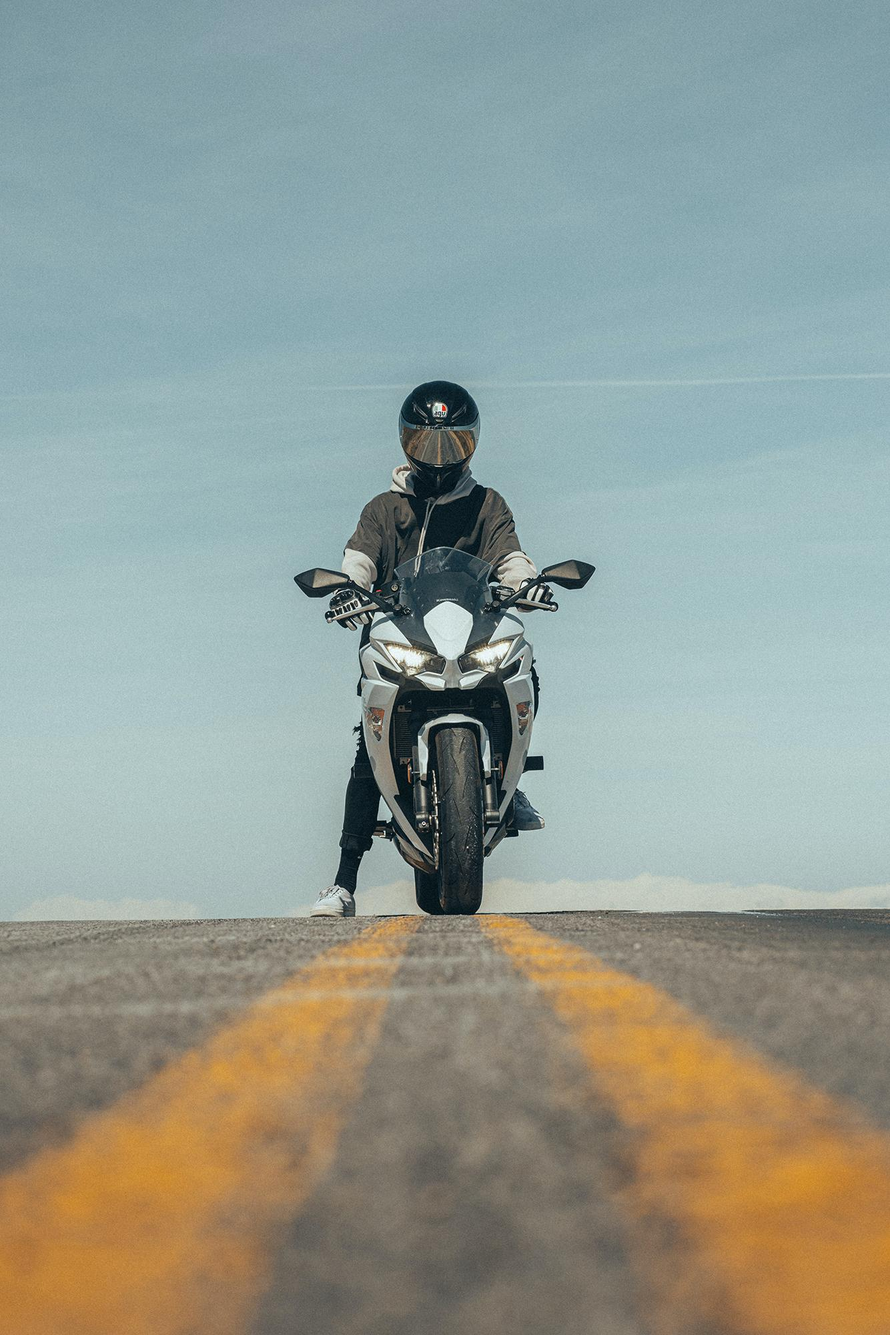helmet: (398, 380, 481, 491)
